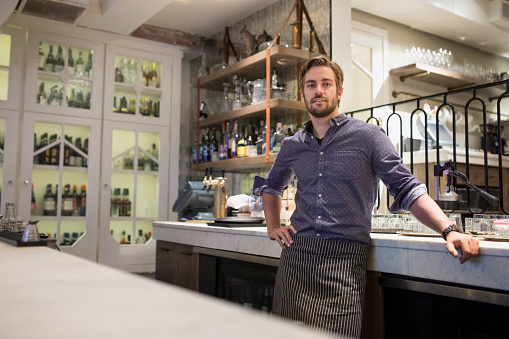em pe: (245, 55, 414, 316)
